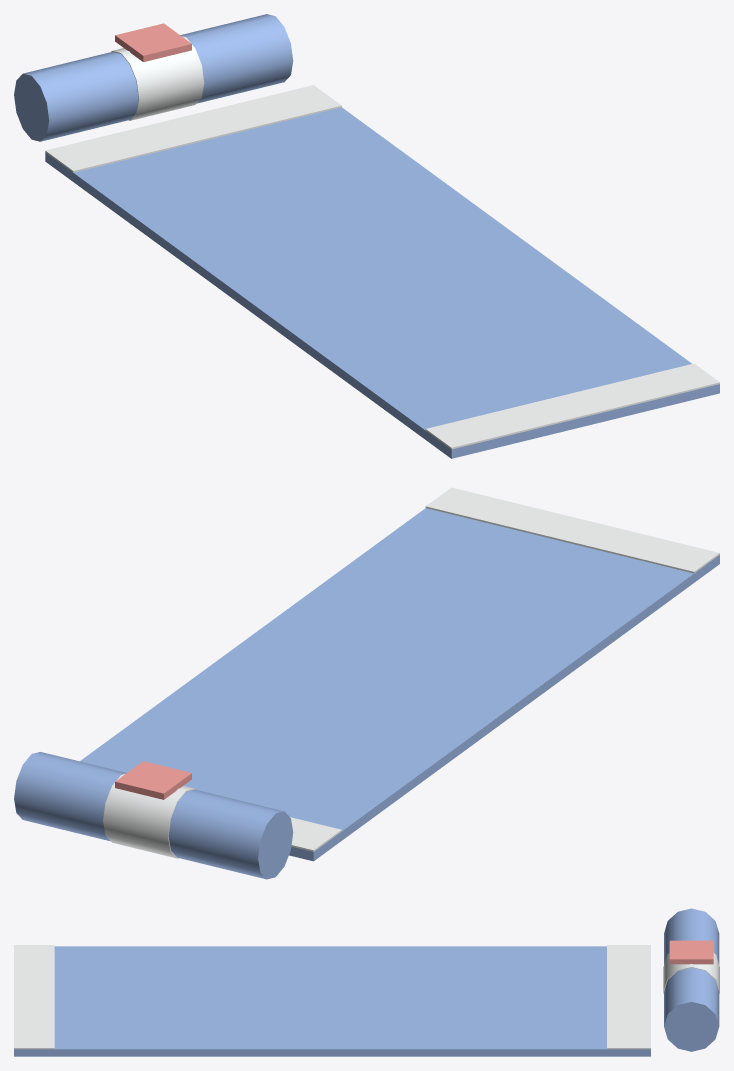
The model's file is yogaMat.glb.
3 views of the same model, one above another, from view 1: azimuth 30°, elevation 25°; view 2: azimuth 150°, elevation 25°; view 3: azimuth 270°, elevation 25° (orthographic). The views are drawn at different scales.
Visible parts, largest first — view 1: yogaMat; view 2: yogaMat; view 3: yogaMat.
Boxes of the visible parts, <box> form: yogaMat: <box>14,14,719,458</box>; yogaMat: <box>14,487,719,879</box>; yogaMat: <box>14,908,719,1056</box>.
Size of the model in its own units: 0.33 by 0.0835 by 0.9585.
